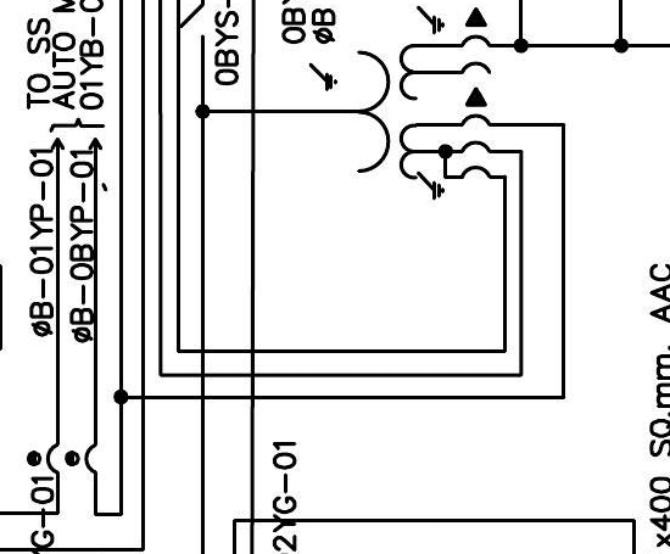115_ds: (181, 3, 205, 40)
115_vt_1p: (308, 5, 492, 202)
